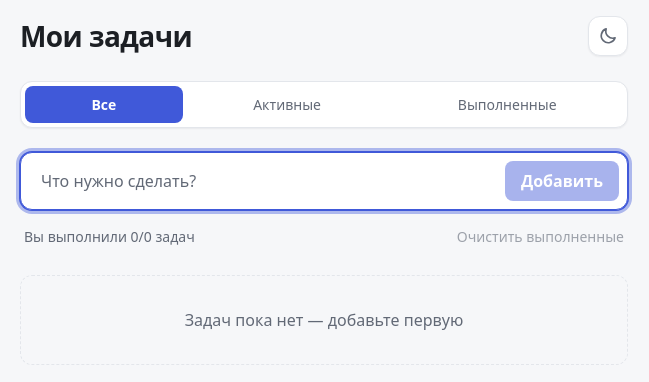
Scenario: App: sync with other tabs › shows tasks, filter and counter changed in another tab
This screenshot has width=649, height=382.
Later steps or results of the test are not shown.
Type "Локальная" into the field named "Новая задача" at (263, 181), box [29,159,497,203]
Then press Enter
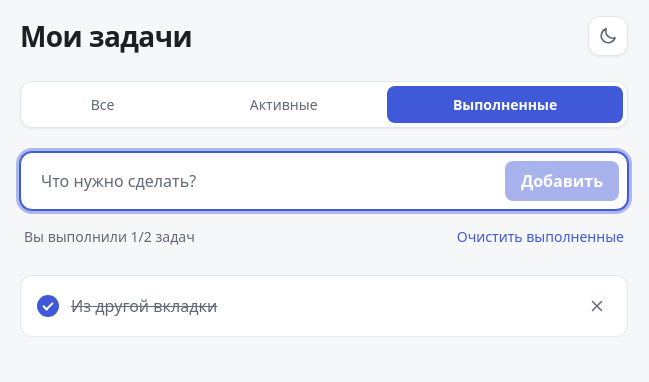
expect the text "Вы выполнили 1/2 задач" is shown: met, box [24,226,195,247]
